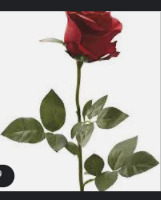RedRose: (62, 11, 120, 65)
